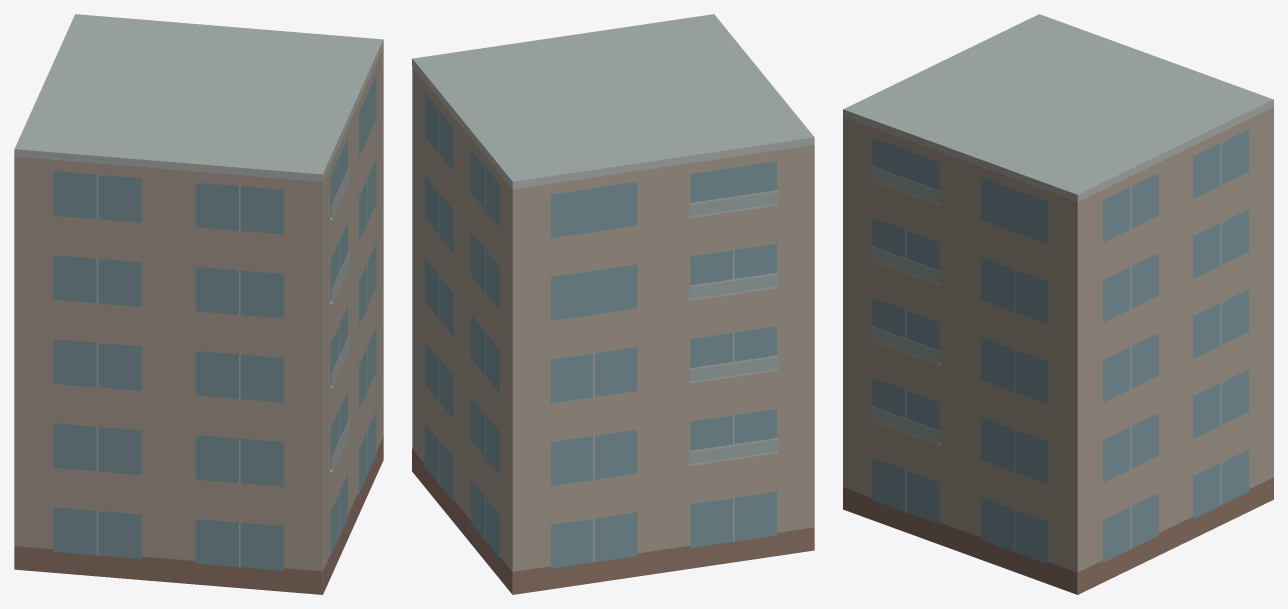
The model's file is survey-upis-32712310.glb.
3 views of the same model, side by side, from view 1: azimuth 30°, elevation 25°; view 2: azimuth 150°, elevation 25°; view 3: azimuth 270°, elevation 25° (orthographic). The views are drawn at different scales.
Visible parts, largest first — view 1: survey-upis-32712310.tmp; view 2: survey-upis-32712310.tmp; view 3: survey-upis-32712310.tmp.
Boxes of the visible parts, x1=… form: survey-upis-32712310.tmp: x1=14, y1=14, x2=383, y2=594; survey-upis-32712310.tmp: x1=412, y1=14, x2=814, y2=594; survey-upis-32712310.tmp: x1=843, y1=14, x2=1273, y2=594.
Bounding box in the file's own units: 13 × 13.4 × 13.08.
